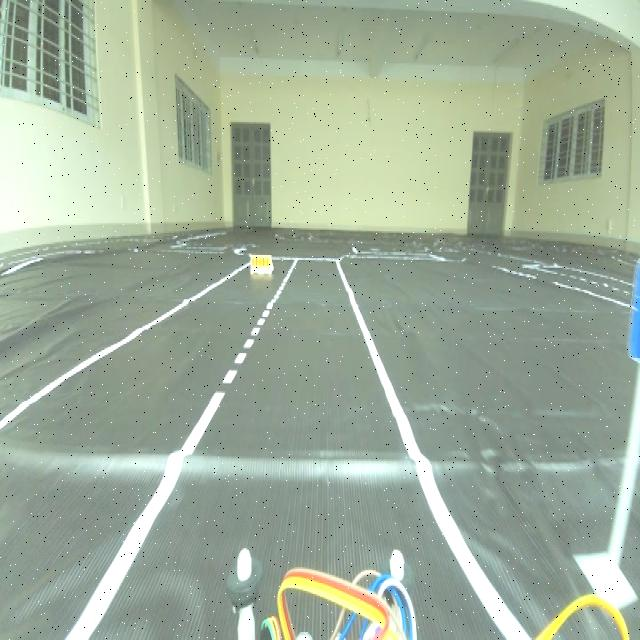roadblock: (248, 250, 270, 281)
